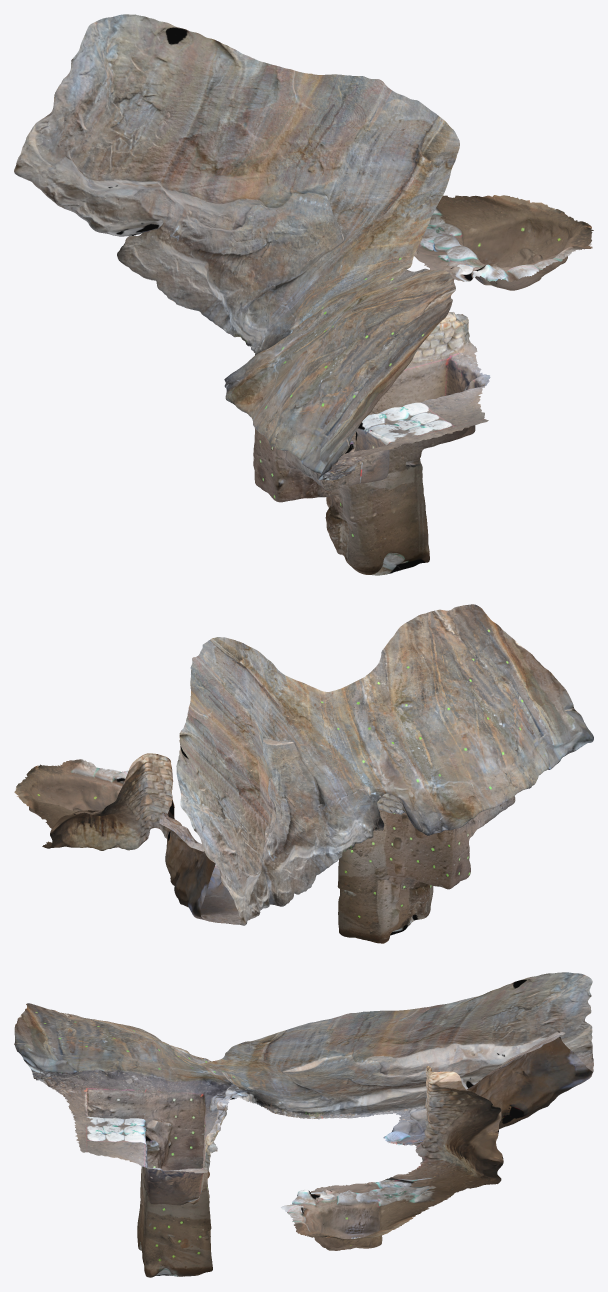
3 renders of one model, top to bottom at view 1: azimuth 30°, elevation 25°; view 2: azimuth 150°, elevation 25°; view 3: azimuth 270°, elevation 25°, orthographic. The views are drawn at different scales.
Visible parts, largest first — view 1: KSII_2017_end_of_season_reduced; view 2: KSII_2017_end_of_season_reduced; view 3: KSII_2017_end_of_season_reduced.
Boxes of the visible parts, bbox=[...] form: KSII_2017_end_of_season_reduced: bbox=[14, 14, 593, 575]; KSII_2017_end_of_season_reduced: bbox=[14, 604, 593, 943]; KSII_2017_end_of_season_reduced: bbox=[14, 972, 593, 1277].
Bounding box in the file's own units: 7.32 × 5.62 × 9.91.
1 material, 1 textured.
